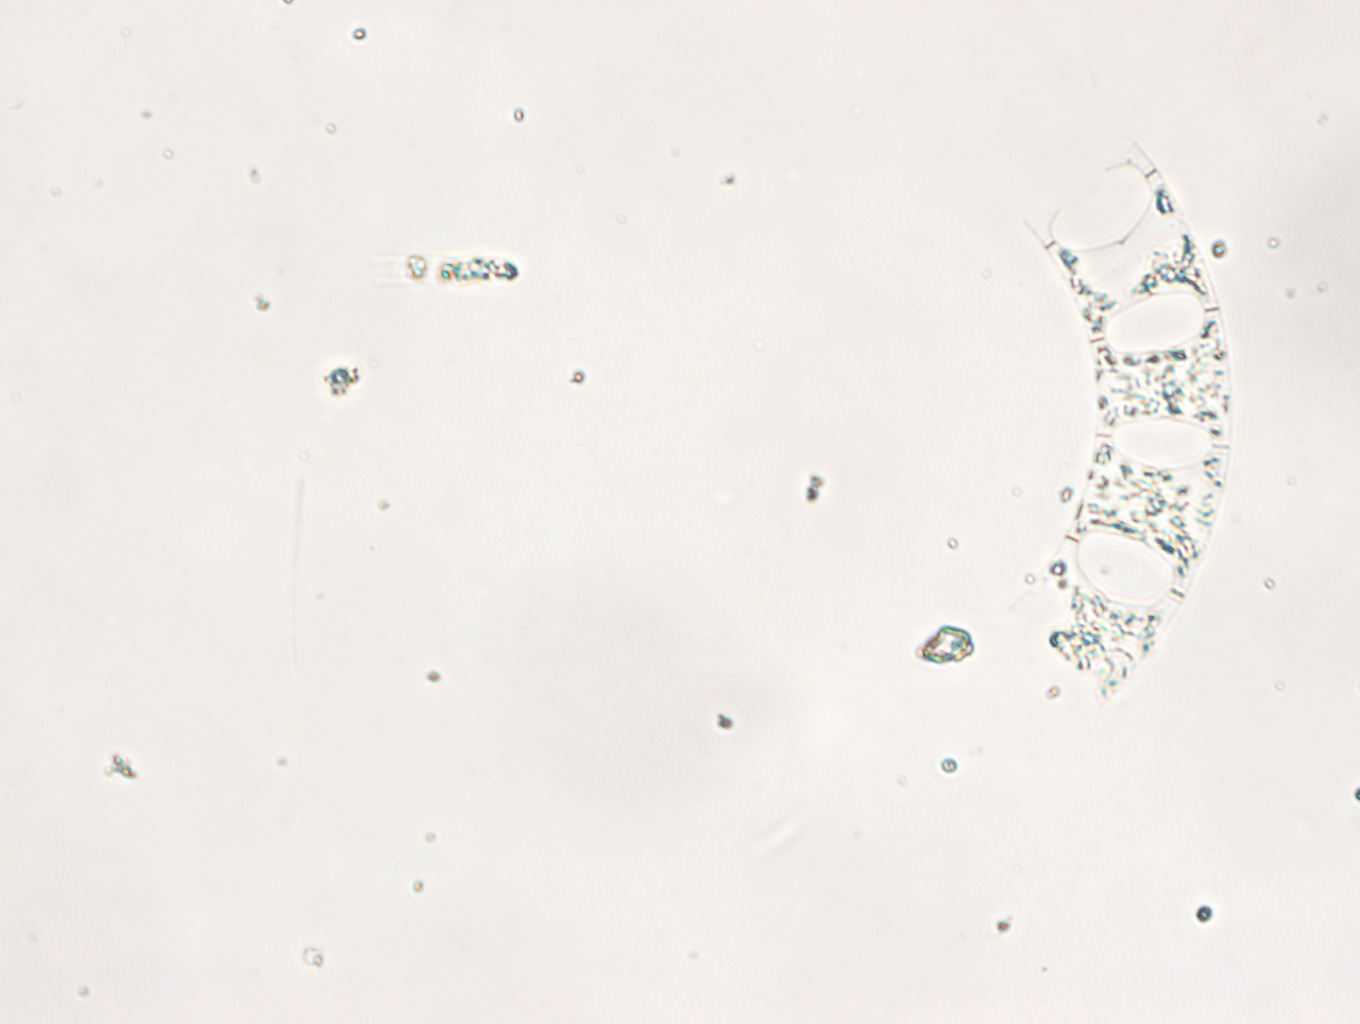eucampia: (1018, 141, 1235, 710)
